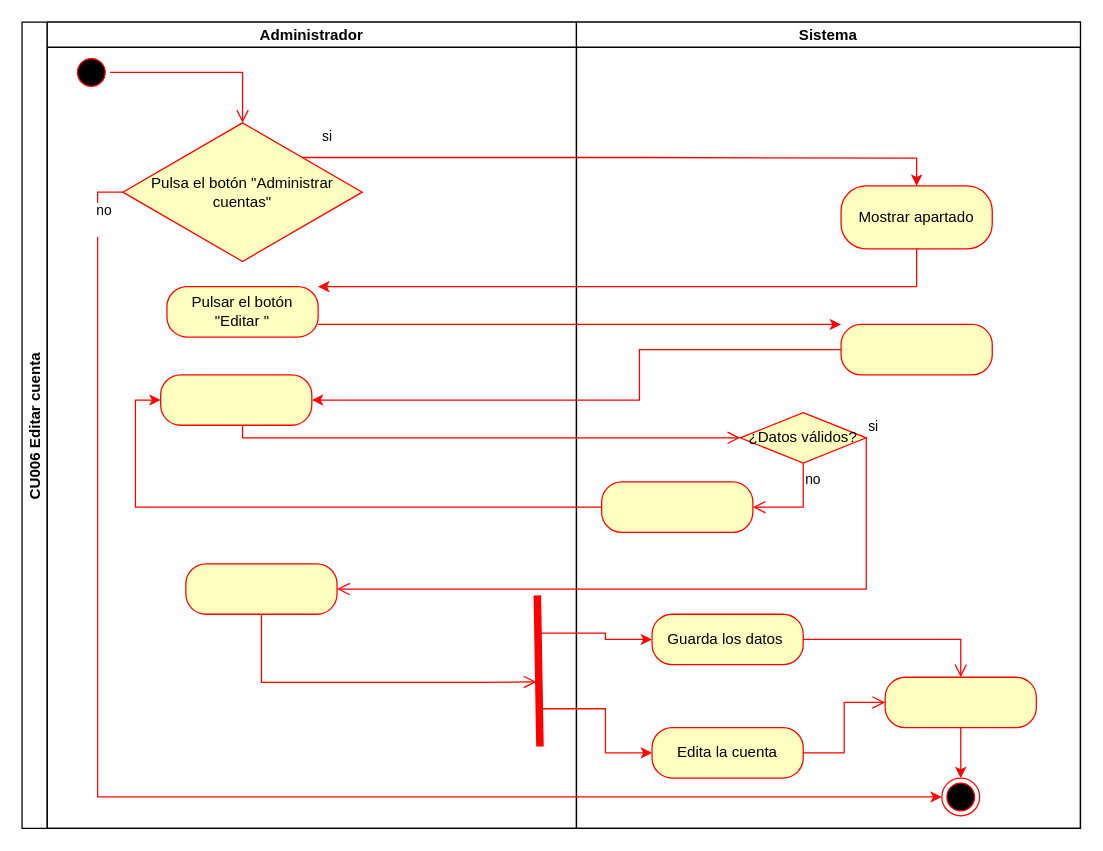
The diagram is 1103 pixels wide and 851 high, and some of its shapes have lost their labels. Here are the shapes that lost their labels. From the top down, the box of each, then its label:
(840, 323, 992, 375): Mostrar formulario edición de cuenta
(159, 374, 312, 425): Diligenciar formulario
(600, 481, 753, 532): Mostrar mensaje de error
(185, 563, 337, 614): Pulsar el botón "Guardar"
(884, 676, 1036, 728): Mostrar mensaje de éxito
